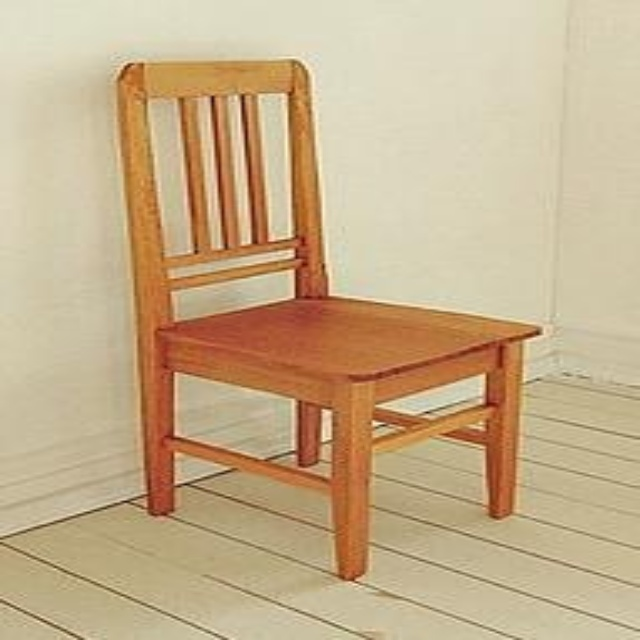obstacle: (117, 59, 536, 577)
